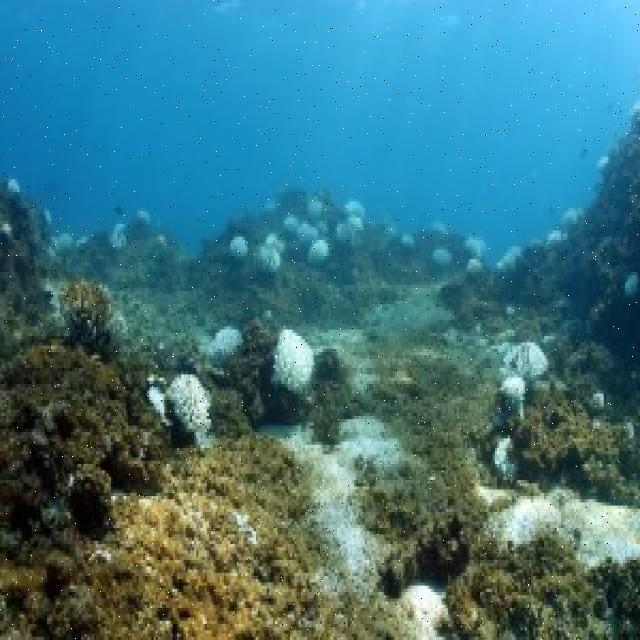Bleached: (270, 325, 325, 398), (164, 368, 216, 442), (496, 333, 551, 393), (208, 322, 248, 373), (226, 231, 252, 274)
